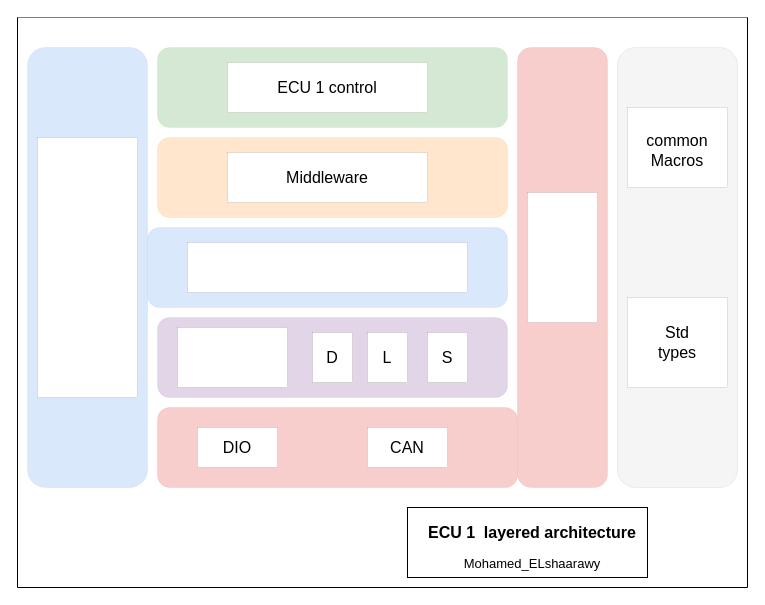
The diagram is 765 pixels wide and 605 high, and some of its shapes have lost their labels. The shapes that lost their labels are listed below. From the top down, each one's centre as x and y in pixels, then its label:
the point at 87,267: OS
the point at 327,267: Communication Manager
the point at 562,257: Timer
the point at 232,357: comm. Handler/ Interface
